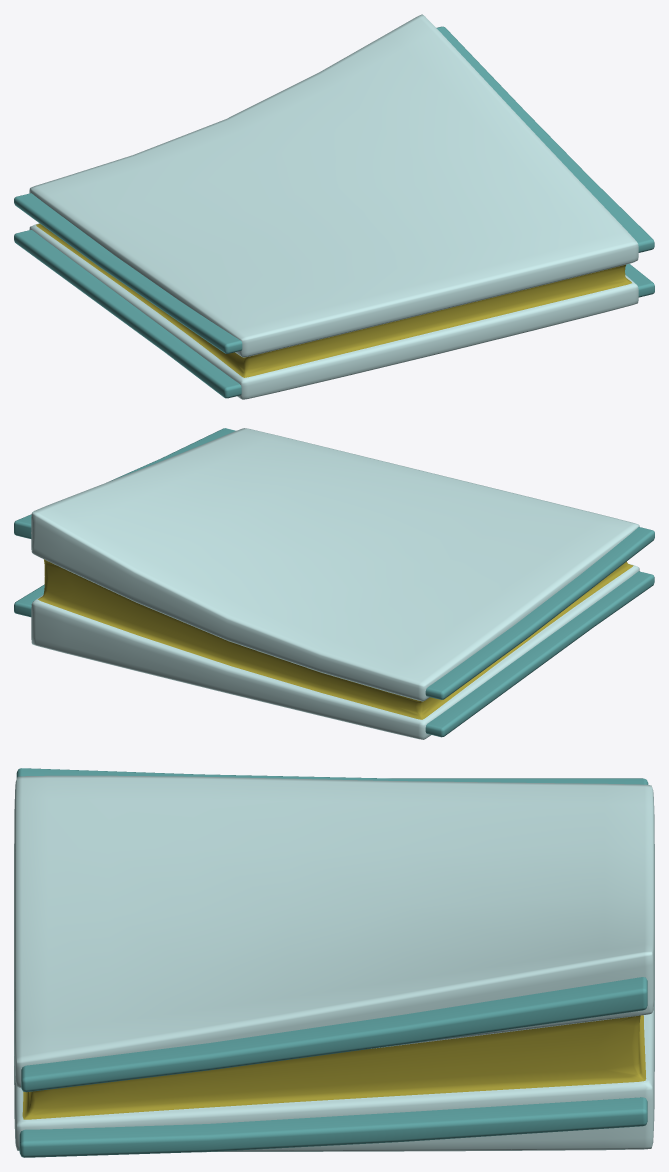
File: SM_Right_Connection_Short_Curve_Platform_01.fbx
3 views of the same model, one above another, from view 1: azimuth 30°, elevation 25°; view 2: azimuth 150°, elevation 25°; view 3: azimuth 270°, elevation 25° (orthographic). The views are drawn at different scales.
Parts seen in each view (by area): view 1: SM_Right_Connection_Short_Curve_Platform_01; view 2: SM_Right_Connection_Short_Curve_Platform_01; view 3: SM_Right_Connection_Short_Curve_Platform_01.
Part boxes in pixels (x1,y1,x2,y2): SM_Right_Connection_Short_Curve_Platform_01: (14,14,654,399); SM_Right_Connection_Short_Curve_Platform_01: (14,428,654,739); SM_Right_Connection_Short_Curve_Platform_01: (14,768,654,1157).
Size of the model in its own units: 1615 by 487 by 1403.
